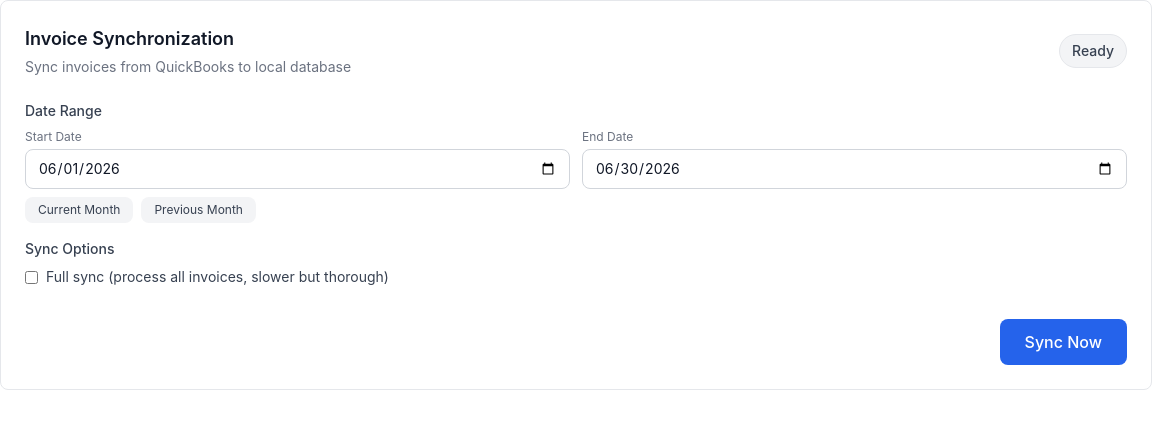
QuickBooksSyncPanel - Sync Options › should hide full sync warning when unchecked
The image size is (1152, 427).
Click the checkbox labelled "Full sync (process all invoices, slower but thorough)". click: (32, 277)
box: 25,270 -> 38,284
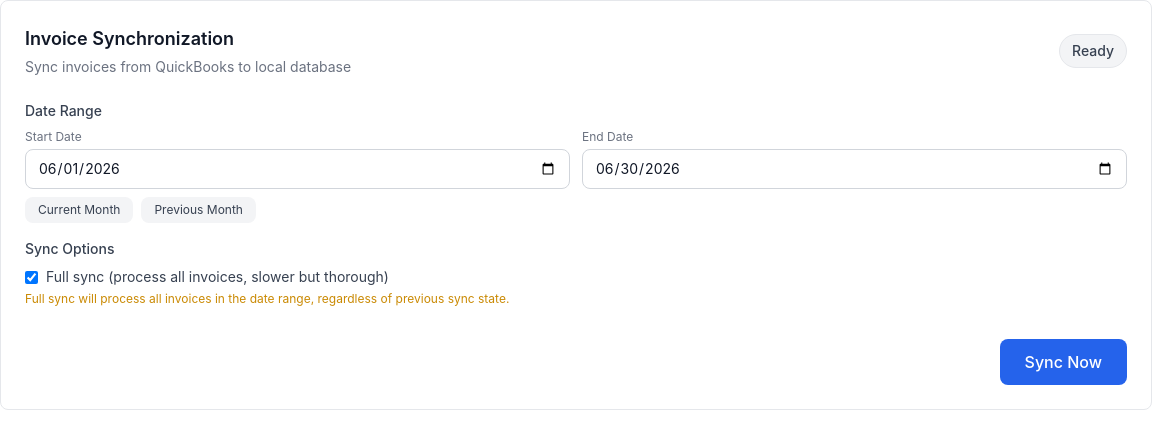
Result: the text "Full sync will process all invoices" is shown at 25,291 -> 509,306
Click the checkbox labelled "Full sync (process all invoices, slower but thorough)". click: (32, 277)
box: 25,270 -> 38,284
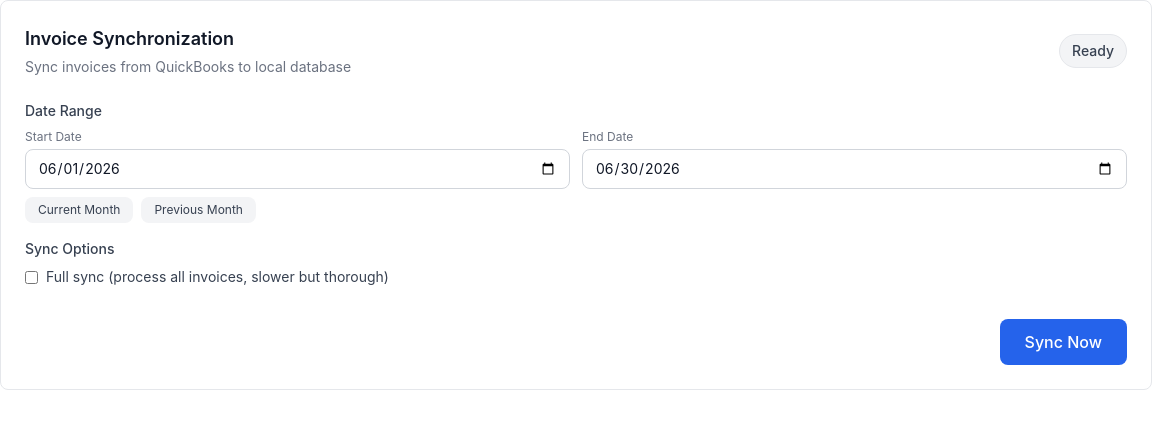
Result: the text "Full sync will process all invoices" is gone
